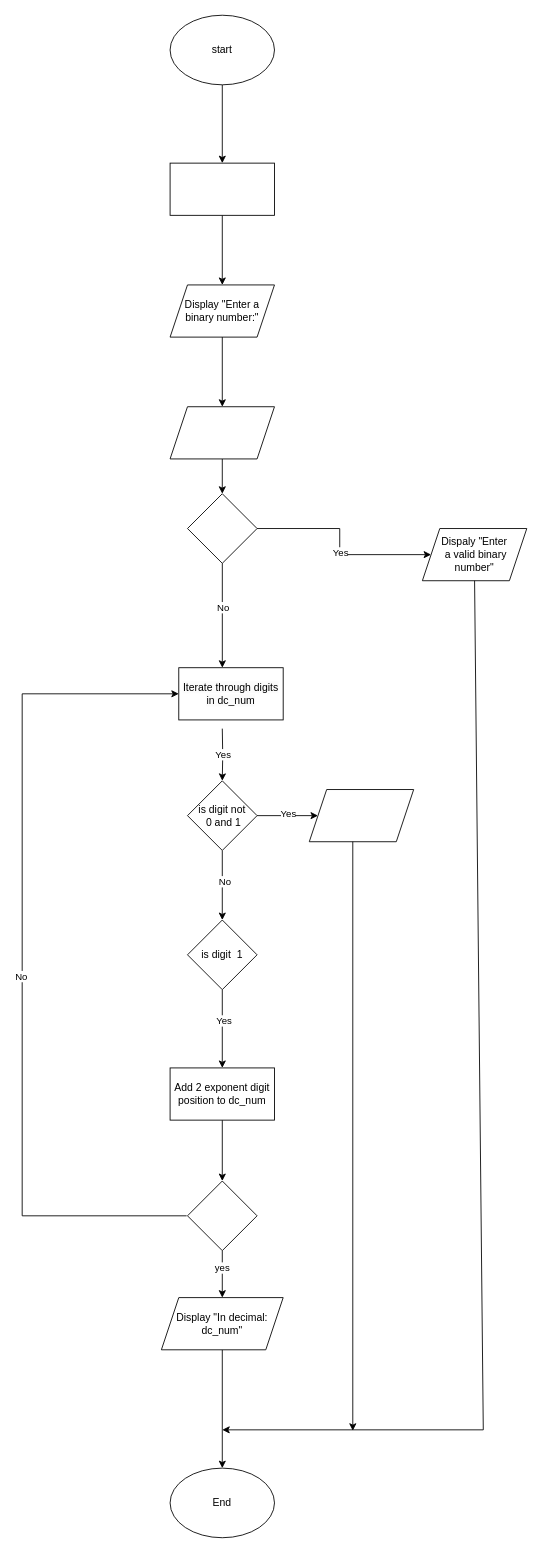
The diagram is 542 pixels wide and 1553 high, and some of its shapes have lost their labels. The shapes that lost their labels are listed below. From the top down, each one's centre as x and y in pixels, then its label:
point (221, 188): initialise dc_num to 0
point (221, 432): read input into bin_num
point (222, 528): bin_num is empty
point (361, 815): Display "Enter a valid binary number."
point (222, 1215): is last digit
